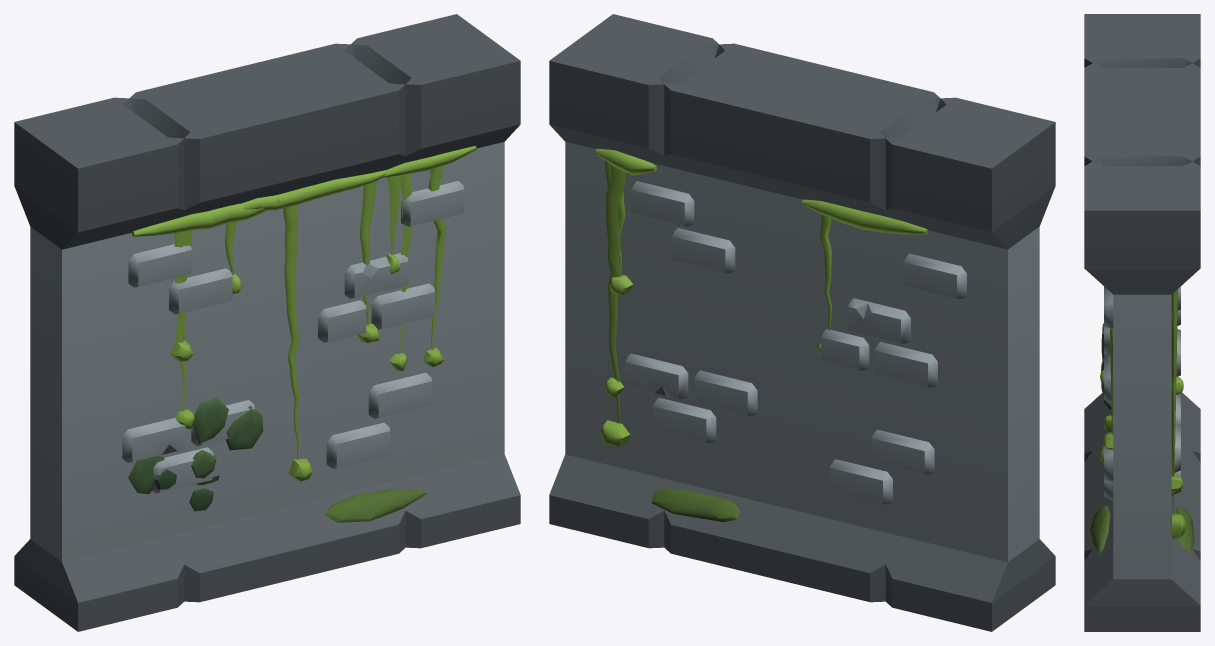
Rendered from wall_slimy_A.glb.
3 renders of one model, left to right at view 1: azimuth 30°, elevation 25°; view 2: azimuth 150°, elevation 25°; view 3: azimuth 270°, elevation 25°, orthographic. The views are drawn at different scales.
Parts seen in each view (by area): view 1: Item; view 2: Item; view 3: Item.
Part boxes in pixels (<box>): Item: <box>14,14,520,631</box>; Item: <box>549,14,1055,631</box>; Item: <box>1084,14,1200,631</box>.
Bounding box in the file's own units: 4 × 4 × 1.
4 materials, 4 textured.
